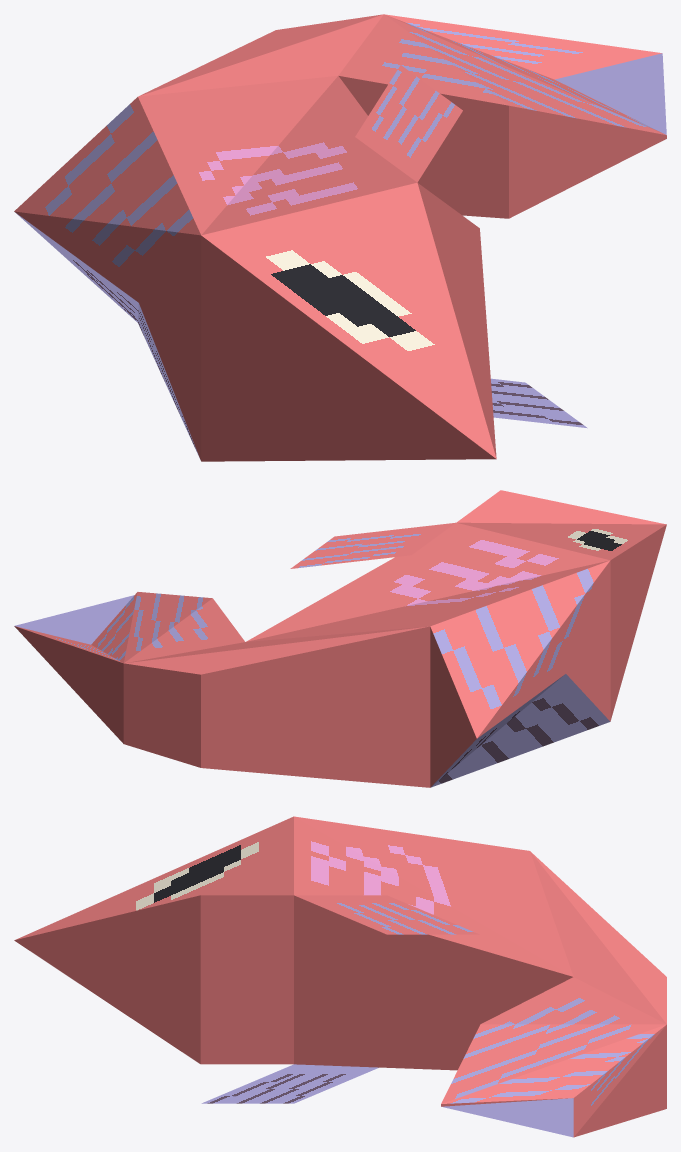
The model's file is fish.gltf.
The picture shows the model from 3 angles, top to bottom: view 1: azimuth 30°, elevation 25°; view 2: azimuth 150°, elevation 25°; view 3: azimuth 270°, elevation 25°; orthographic projection. The views are drawn at different scales.
Bounding box in the file's own units: 1.5 × 0.5 × 1.75.
Materials: 1 (1 with a texture image).
